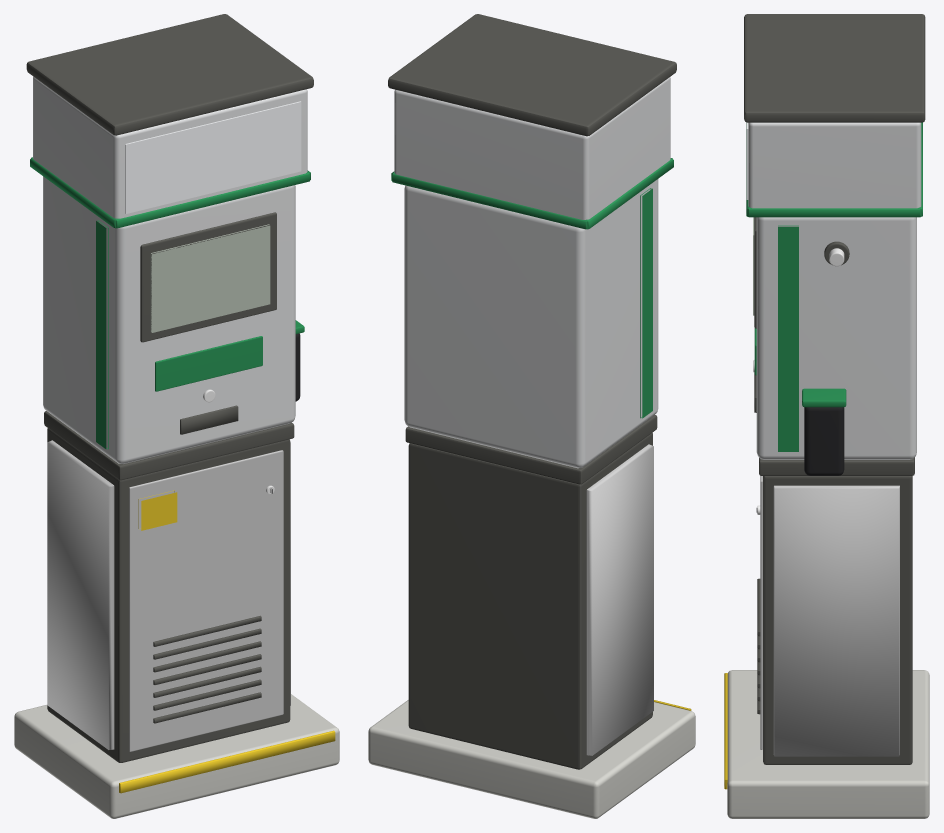
Rendered from energy.plant.petrol_pump.glb.
3 views of the same model, side by side, from view 1: azimuth 30°, elevation 25°; view 2: azimuth 150°, elevation 25°; view 3: azimuth 270°, elevation 25° (orthographic).
Parts seen in each view (by area): view 1: main__galv_ccc, main__paint_dee, main__paint_555, main__concrete_ccc, main__light_fff, main__light_bcb, main__paint_295, main__paint_ec2; view 2: main__paint_dee, main__paint_555, main__galv_ccc, main__concrete_ccc, main__paint_295; view 3: main__paint_dee, main__galv_ccc, main__paint_555, main__concrete_ccc, main__paint_295, main__paint_222, main__paint_ec2.
Part boxes in pixels (x1,y1,x2,y2): main__galv_ccc: (47, 440, 290, 751); main__paint_dee: (33, 76, 307, 463); main__paint_555: (26, 14, 313, 762); main__concrete_ccc: (14, 694, 339, 818); main__light_fff: (125, 101, 301, 213); main__light_bcb: (150, 224, 270, 332); main__paint_295: (30, 157, 310, 449); main__paint_ec2: (119, 490, 335, 793); main__paint_dee: (394, 77, 670, 468); main__paint_555: (388, 14, 676, 769); main__galv_ccc: (586, 444, 653, 755); main__concrete_ccc: (368, 700, 695, 818); main__paint_295: (391, 158, 673, 418); main__paint_dee: (748, 122, 921, 459); main__galv_ccc: (760, 475, 899, 756); main__paint_555: (744, 14, 925, 764); main__concrete_ccc: (727, 670, 929, 818); main__paint_295: (746, 122, 922, 451); main__paint_222: (756, 407, 844, 512); main__paint_ec2: (724, 673, 727, 789).
Size of the model in its own units: 0.6425 by 1.83 by 0.487.
